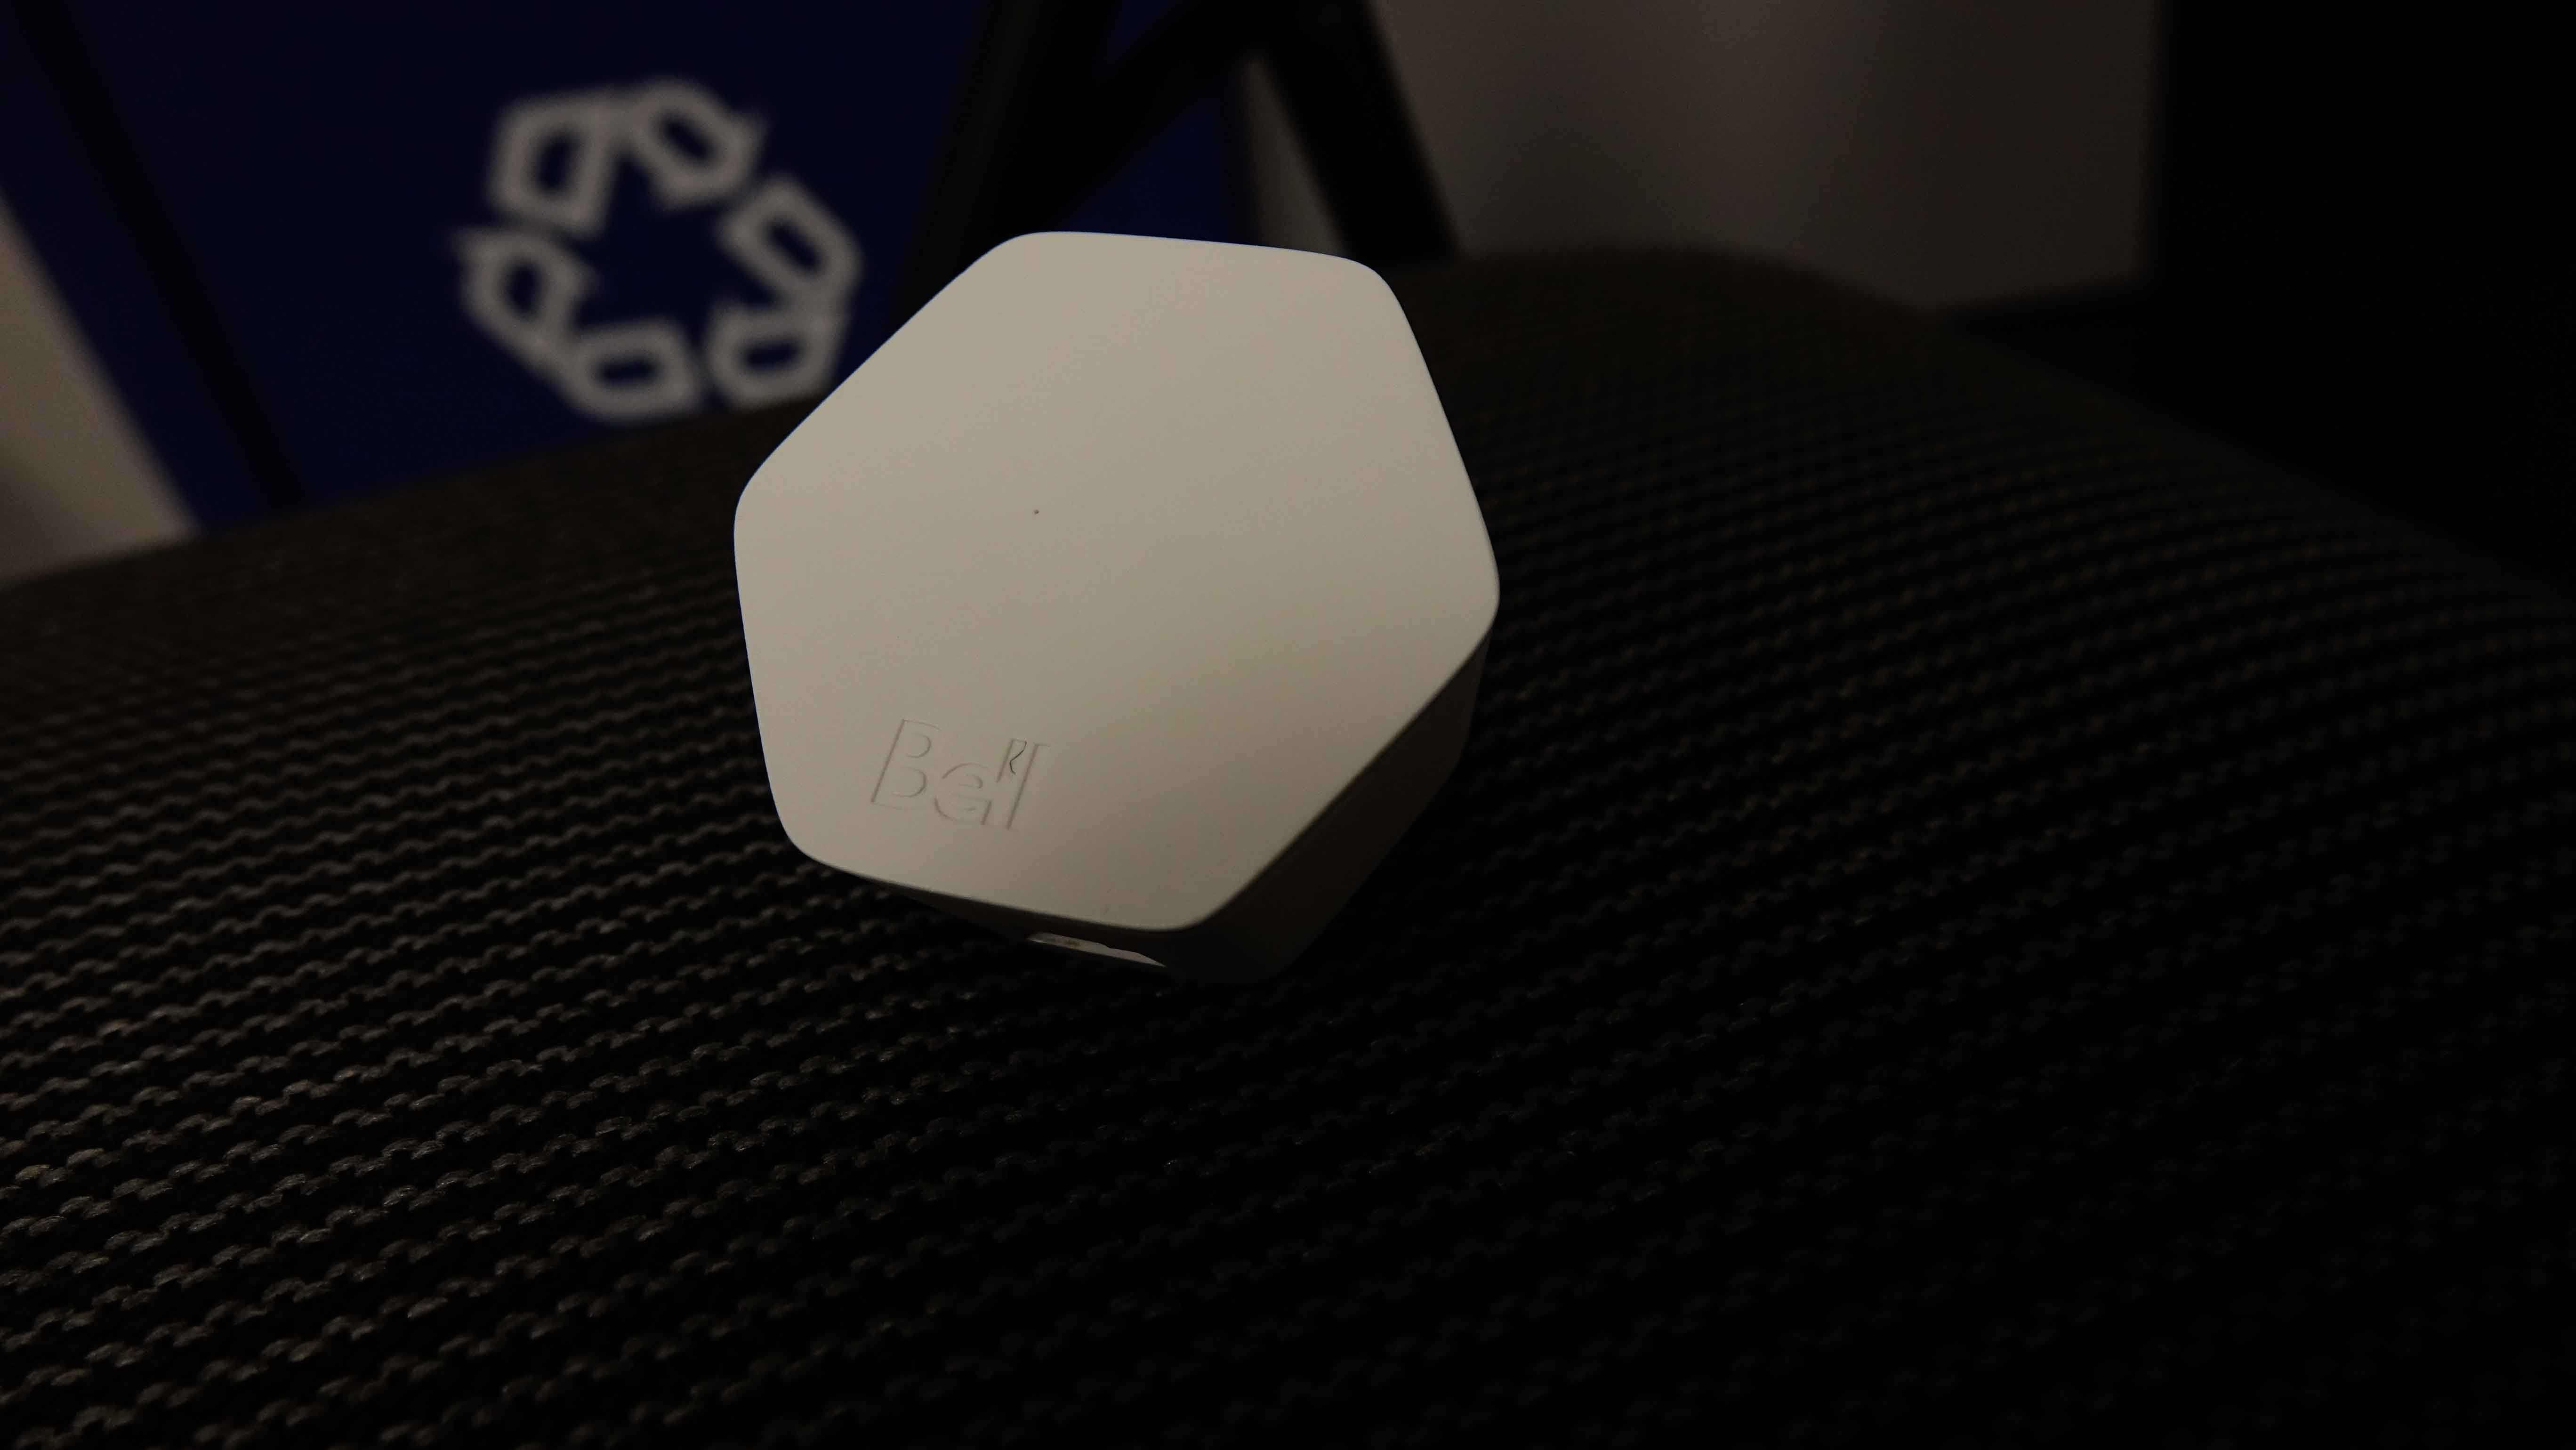pod: (718, 223, 1511, 1004)
